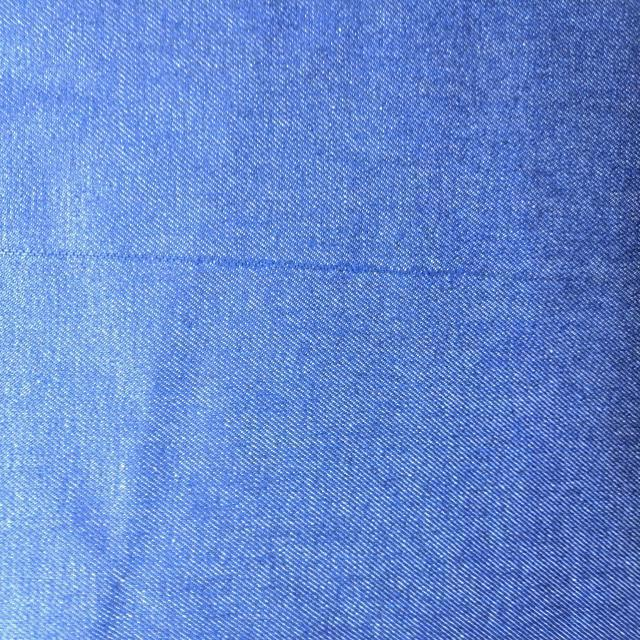Line: (7, 243, 632, 293)
